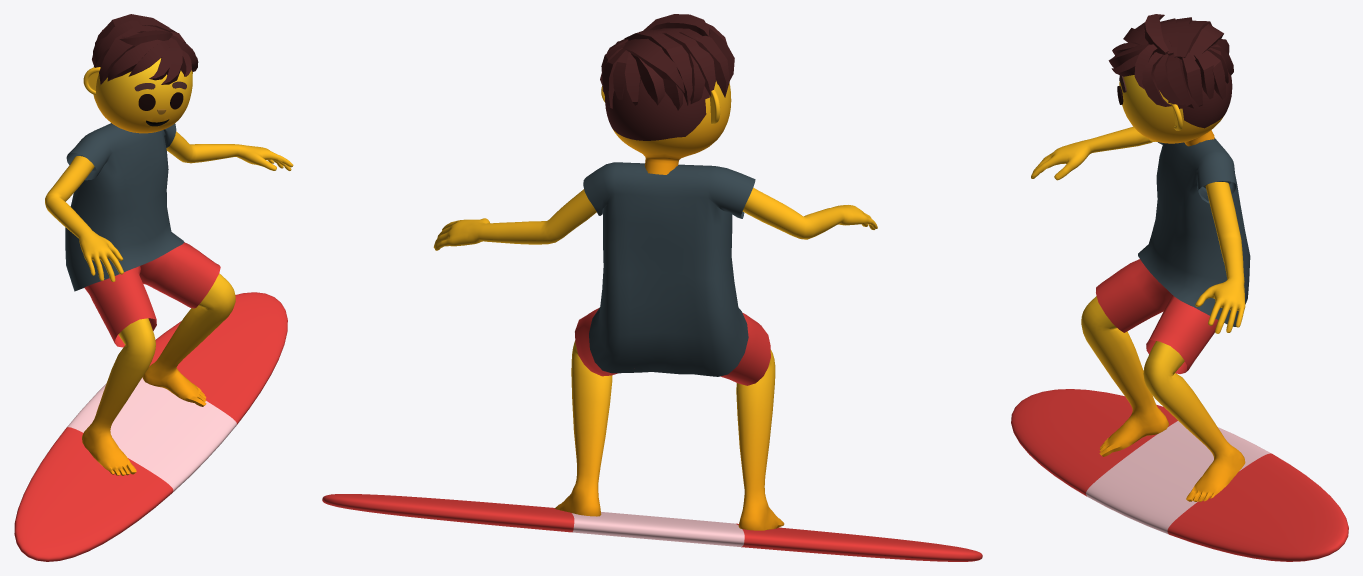
The model's file is person_surfing.gltf.
The picture shows the model from 3 angles, left to right: view 1: azimuth 30°, elevation 25°; view 2: azimuth 150°, elevation 25°; view 3: azimuth 270°, elevation 25°; orthographic projection. The views are drawn at different scales.
Parts seen in each view (by area): view 1: Circle.106, Plane.043, Cube.265, Roundcube.455, Circle.109; view 2: Circle.106, Plane.043, Cube.265, Roundcube.455; view 3: Circle.106, Plane.043, Cube.265, Roundcube.455.
Part boxes in pixels (x1=…): Circle.106: x1=45, y1=123, x2=293, y2=475; Plane.043: x1=14, y1=292, x2=287, y2=561; Cube.265: x1=92, y1=14, x2=198, y2=84; Roundcube.455: x1=93, y1=58, x2=192, y2=133; Circle.109: x1=138, y1=92, x2=183, y2=110; Circle.106: x1=433, y1=162, x2=877, y2=530; Plane.043: x1=322, y1=494, x2=982, y2=561; Cube.265: x1=600, y1=14, x2=734, y2=110; Roundcube.455: x1=605, y1=79, x2=731, y2=174; Circle.106: x1=1031, y1=126, x2=1250, y2=501; Plane.043: x1=1011, y1=389, x2=1348, y2=561; Cube.265: x1=1108, y1=14, x2=1233, y2=108; Roundcube.455: x1=1119, y1=60, x2=1232, y2=146.
Bounding box in the file's own units: 1.96 × 2.12 × 1.33.
Materials: 5 (2 with a texture image).
